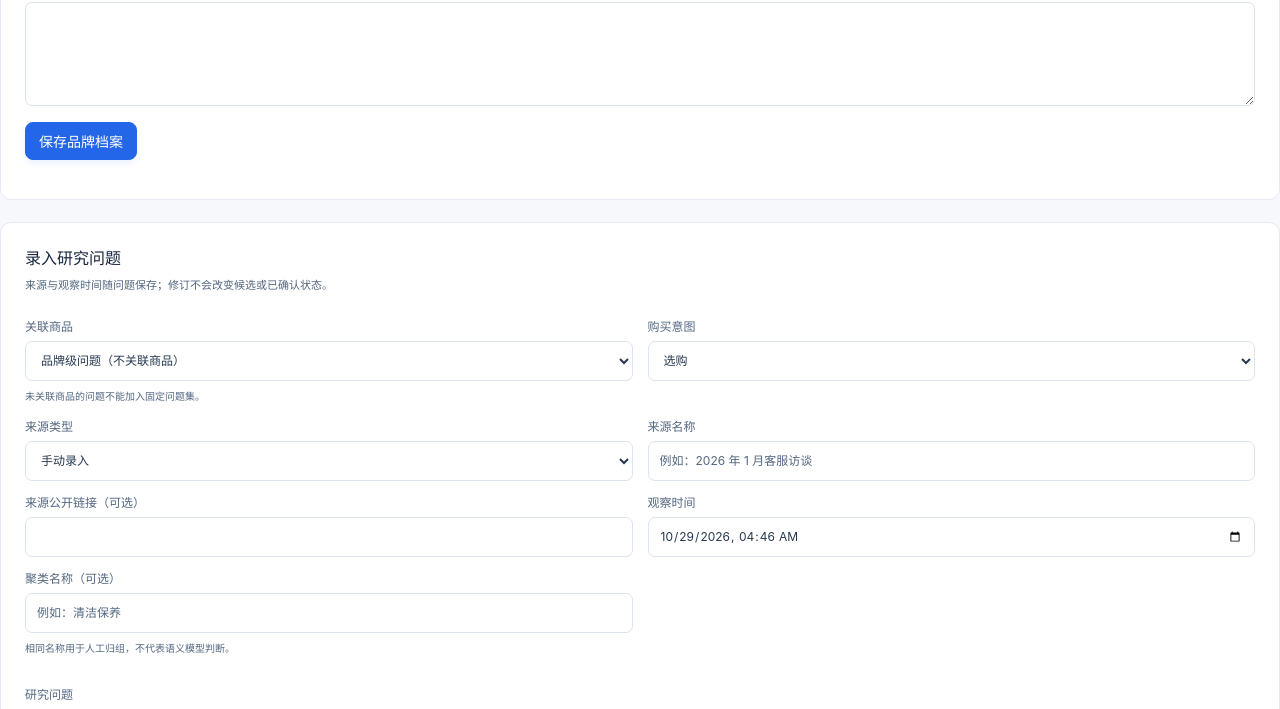
Scenario: creates_local_suggested_candidate_with_source_and_observation_date
(page scrolled)
Select "虚构星云杯 · TEST-CUP" in the dropdown labelled "关联商品" at (329,361), box [25,341,632,381]
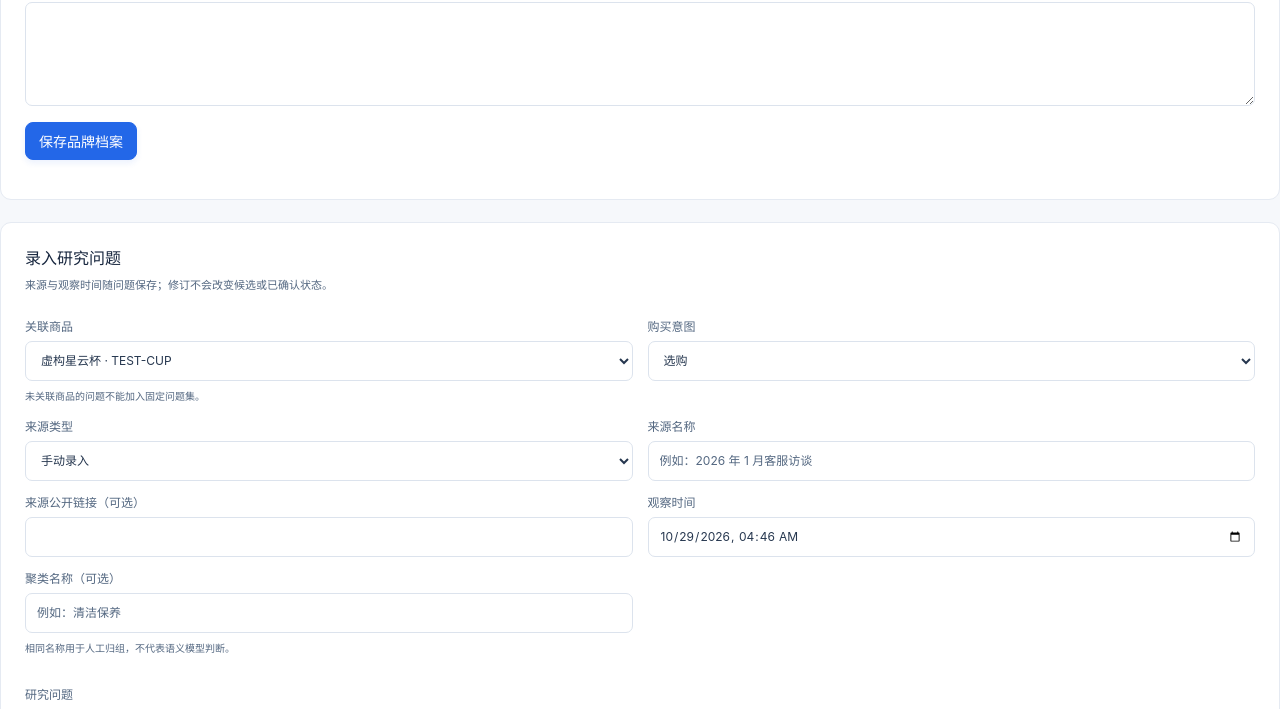
Select "本地模板建议" in the dropdown labelled "来源类型" at (329,461), box [25,441,632,481]
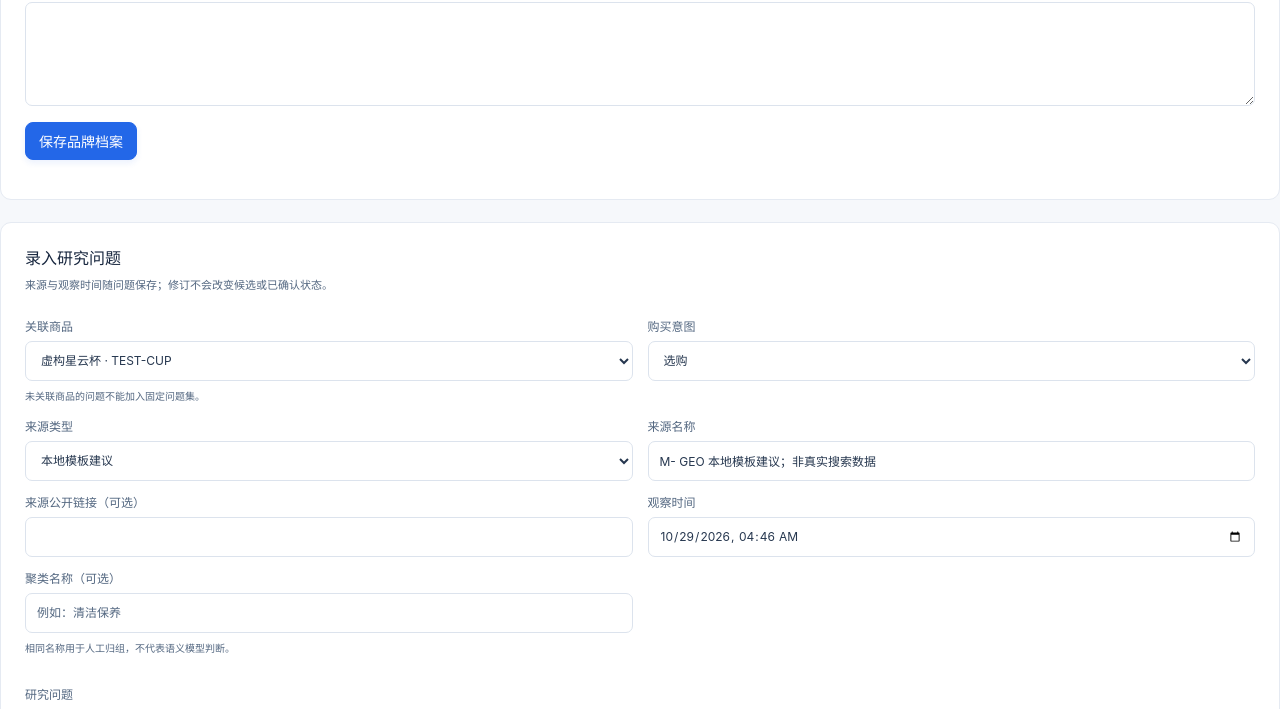
Result: the field labelled "来源名称" holds "M- GEO 本地模板建议；非真实搜索数据" at [648,441,1255,481]
Replace the text in the field labelled "观察时间" with "2026-01-02T03:04" at (951,537), box [648,517,1255,557]
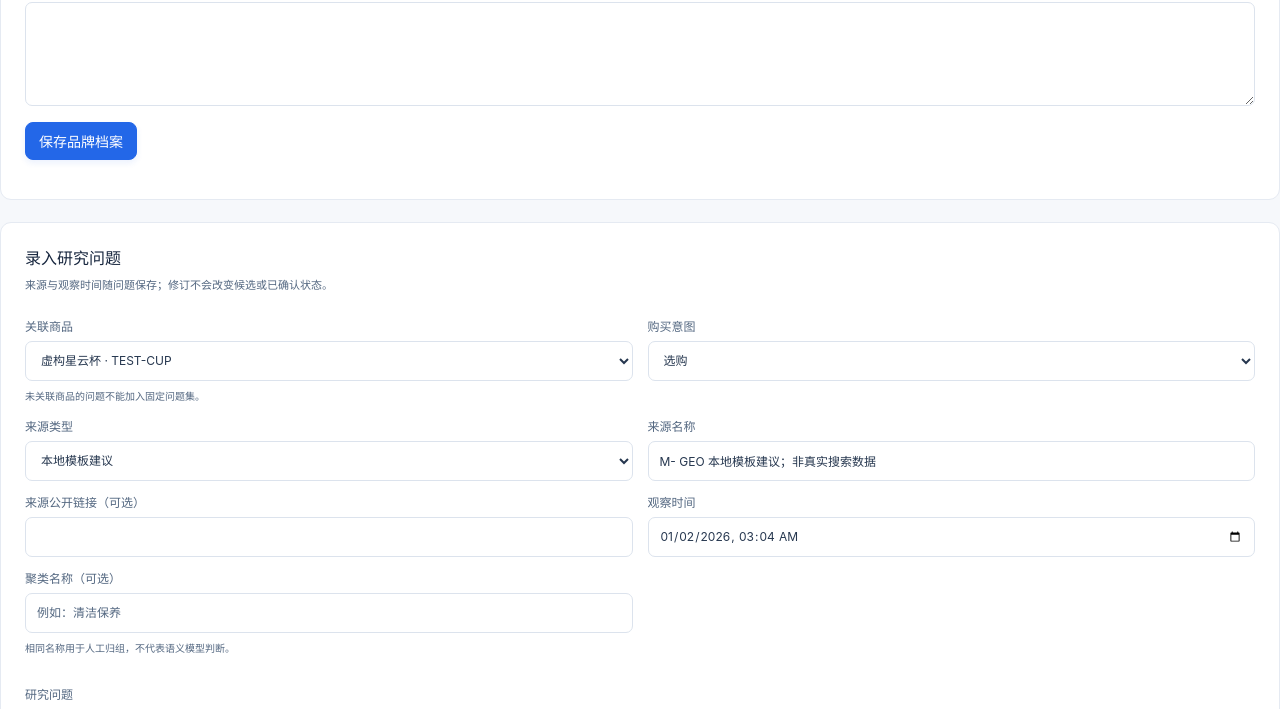
Type "清洁保养" into the field labelled "聚类名称（可选）" at (329,613), box [25,593,632,633]
(page scrolled)
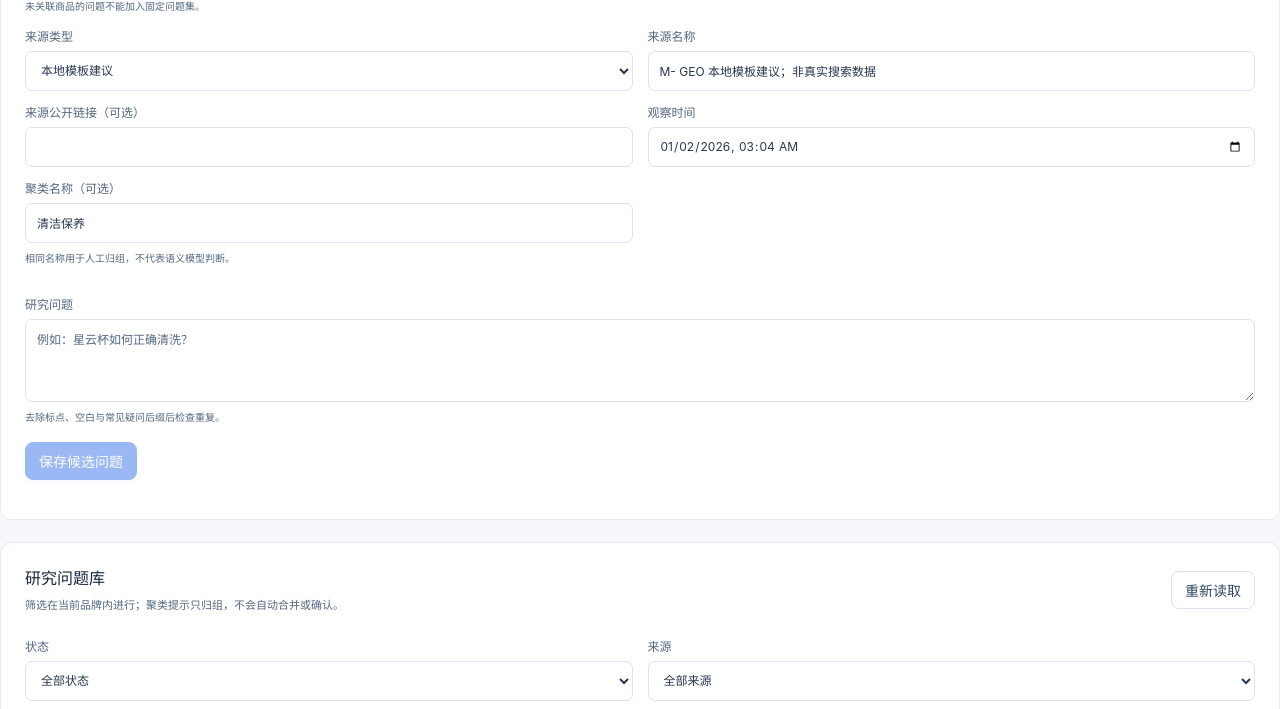
Type "虚构本地建议问题" into the text box labelled "研究问题" at (640,360), box [25,319,1255,402]
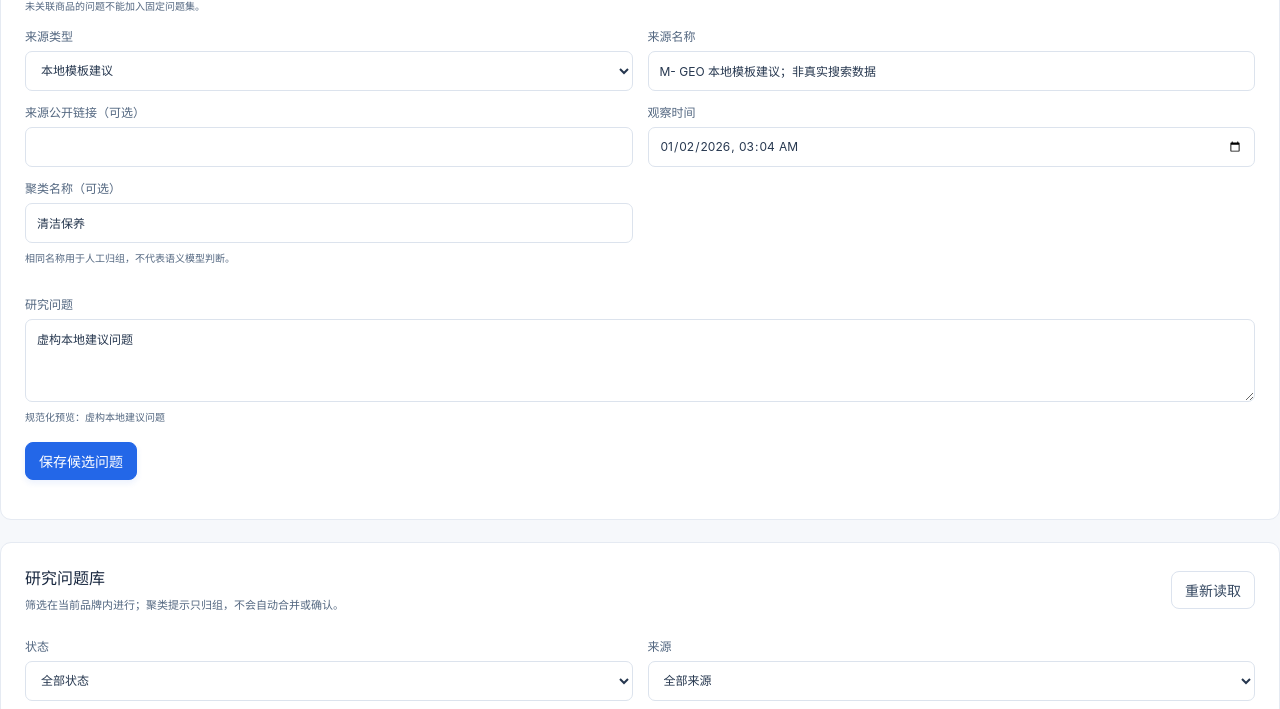
Click the button "保存候选问题" at (81,461), box [25,442,137,480]
(page scrolled)
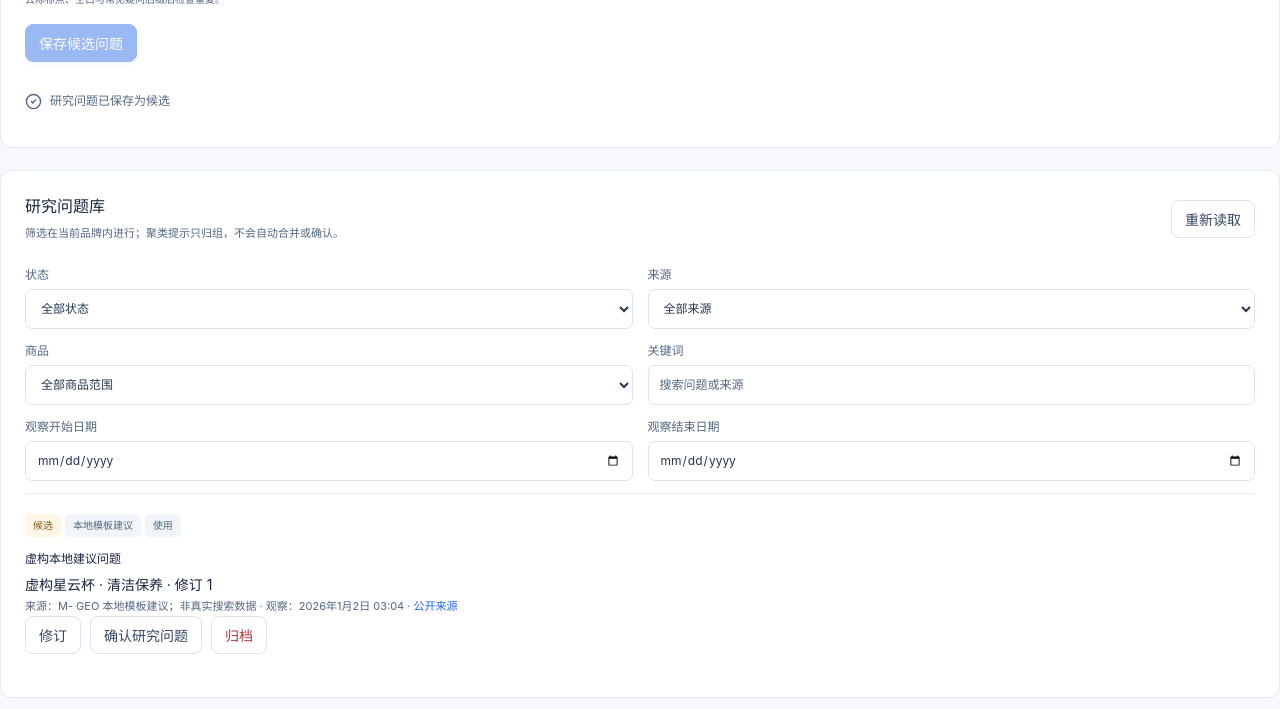
Result: the text "研究问题已保存为候选" is shown at [25,92,170,110]
Result: the heading "虚构本地建议问题" is shown at [25,551,121,566]
